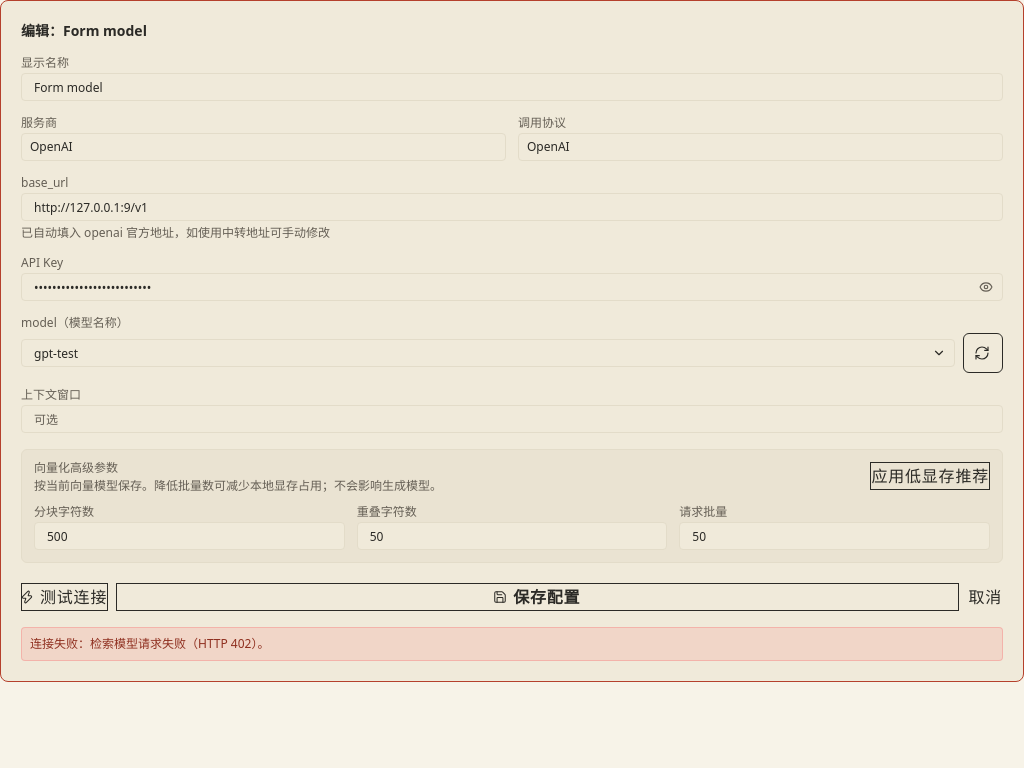
Test case: model connection test result (#484) › ignores a connection result that arrives after the embedding configuration has changed
Earlier steps of the test are not shown.
Click the button "测试连接". click: {"x": 65, "y": 597}
box: [21,583,108,611]
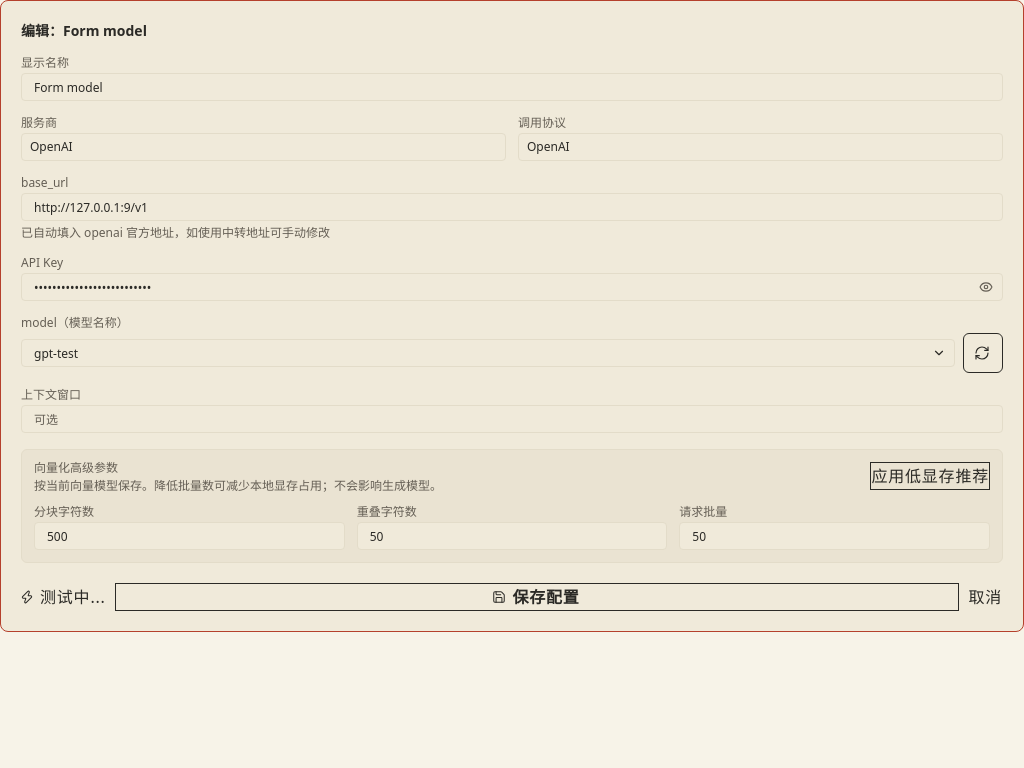
Replace the text in the dropdown with placeholder "从列表选择，或直接输入模型名称" with "new-config-before-old-result". click: {"x": 488, "y": 353}
box: [21,339,955,367]
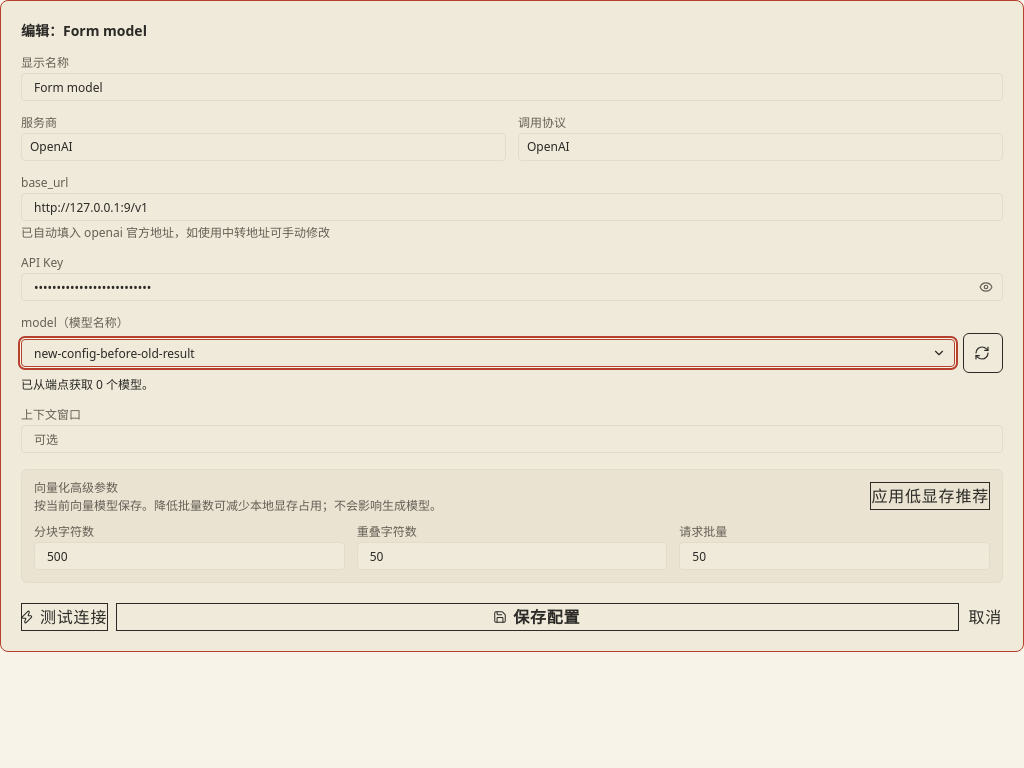
Check: the text "HTTP 402" is not shown
Check: the button "测试连接" is enabled, box [21,603,108,631]
